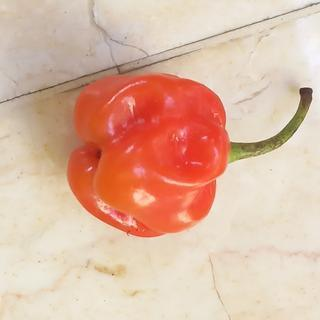Grade-B: (61, 67, 235, 239)
